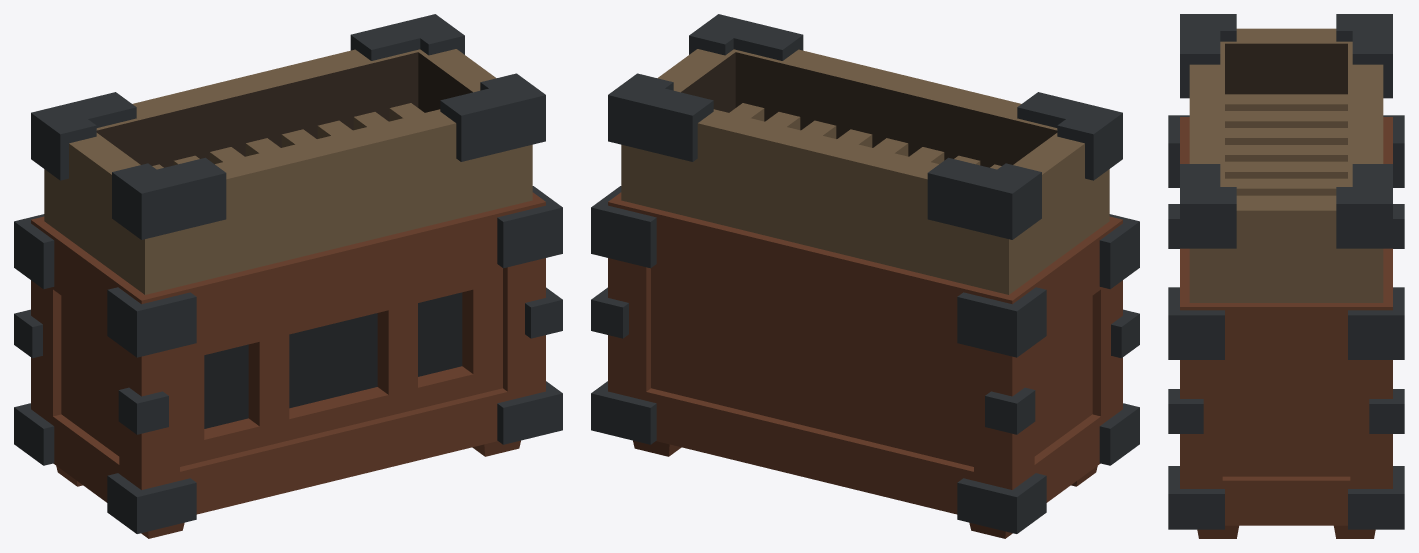
The model's file is offering-box-c85bd3.glb.
3 views of the same model, side by side, from view 1: azimuth 30°, elevation 25°; view 2: azimuth 150°, elevation 25°; view 3: azimuth 270°, elevation 25° (orthographic). The views are drawn at different scales.
Parts seen in each view (by area): view 1: offering-box-shell; view 2: offering-box-shell; view 3: offering-box-shell.
Part boxes in pixels (x1,y1,x2,y2): offering-box-shell: [14, 14, 562, 538]; offering-box-shell: [591, 14, 1139, 538]; offering-box-shell: [1168, 14, 1404, 538].
Size of the model in its own units: 1 by 0.8 by 0.5.
